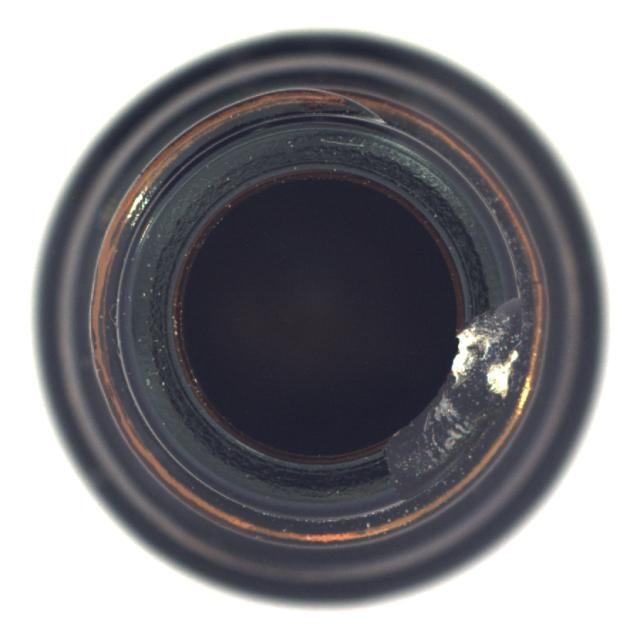bad-broken_small: (31, 25, 614, 612)
